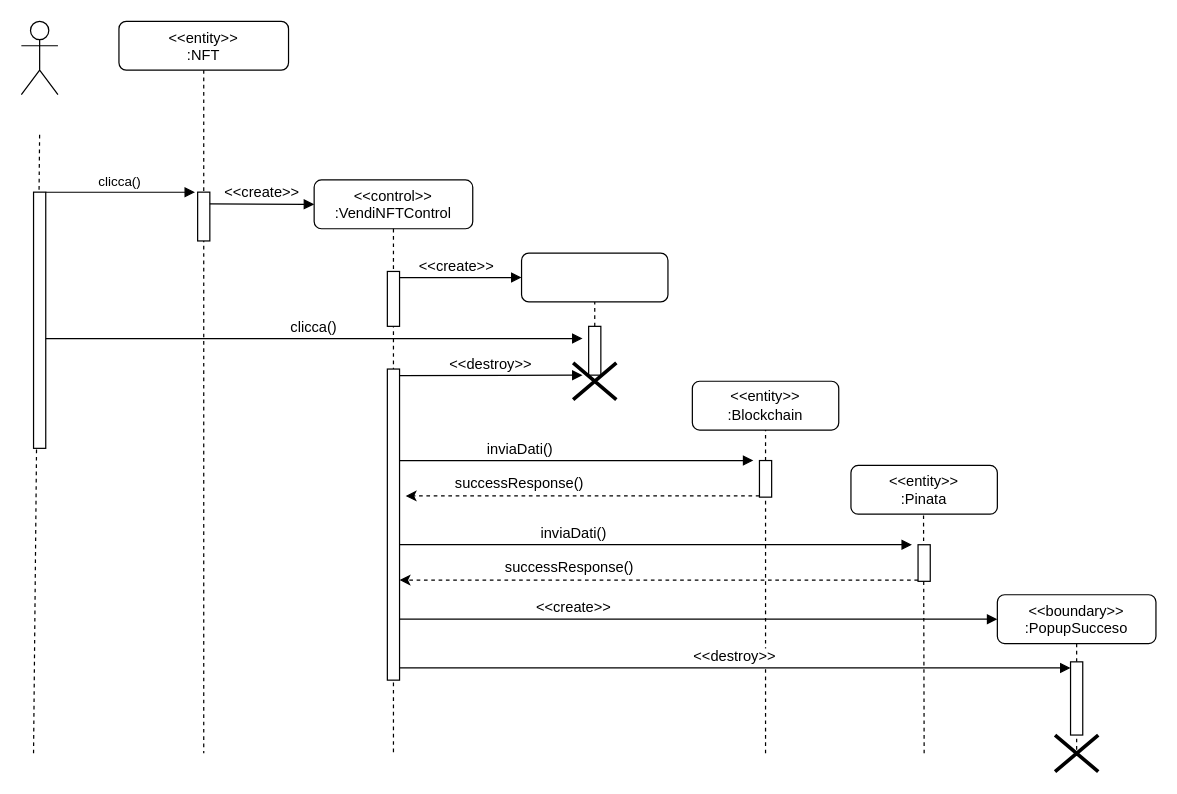
The diagram is 1177 pixels wide and 794 high, and some of its shapes have lost their labels. The centre of each missing label's shape, as x and y in pixels:
:User: (x=39, y=57)
<<boundary>> :VendiNFTButton: (x=594, y=277)
